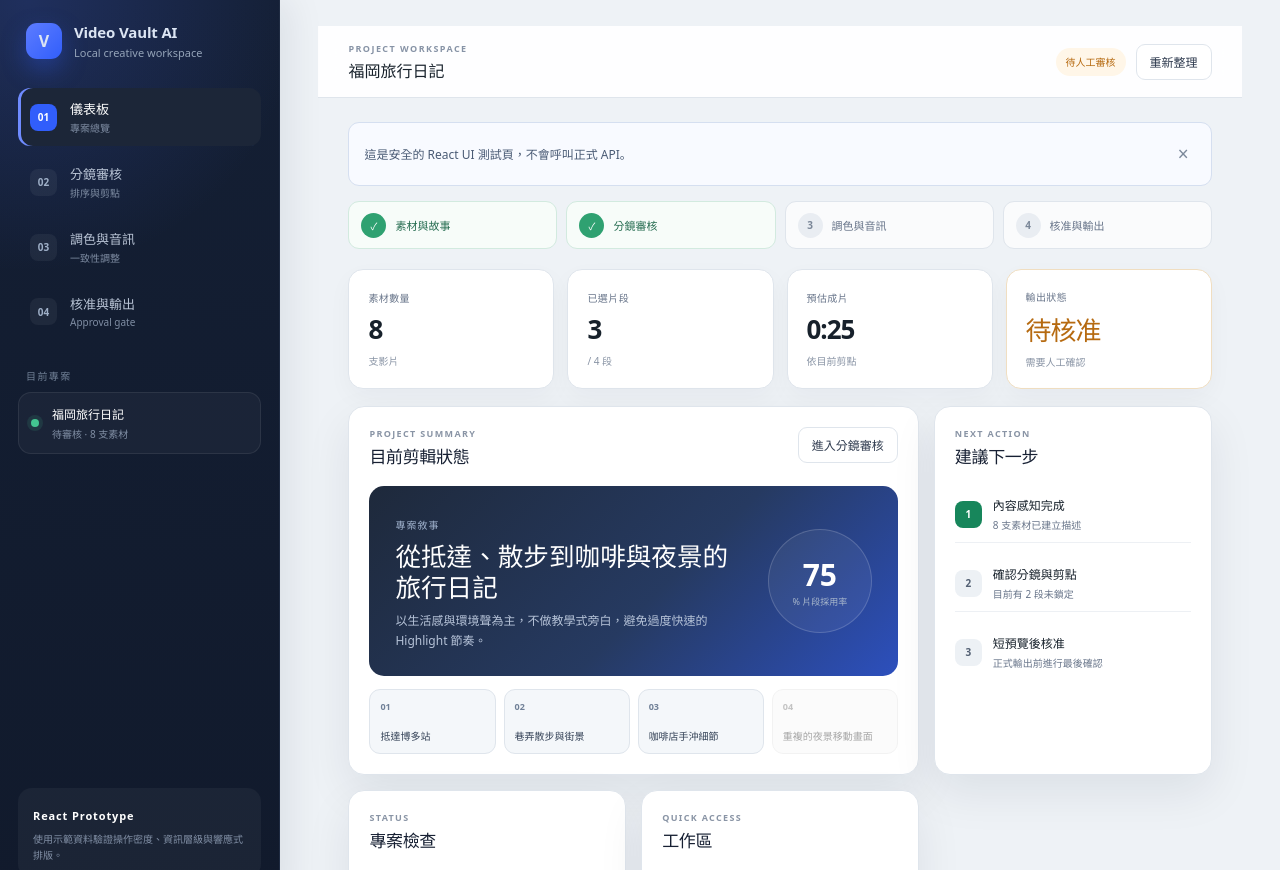
it: React UI prototype › requires human confirmations before the render gate unlocks
Click the button "04 核准與輸出 Approval gate": (140, 312) x1=18 y1=283 x2=261 y2=340
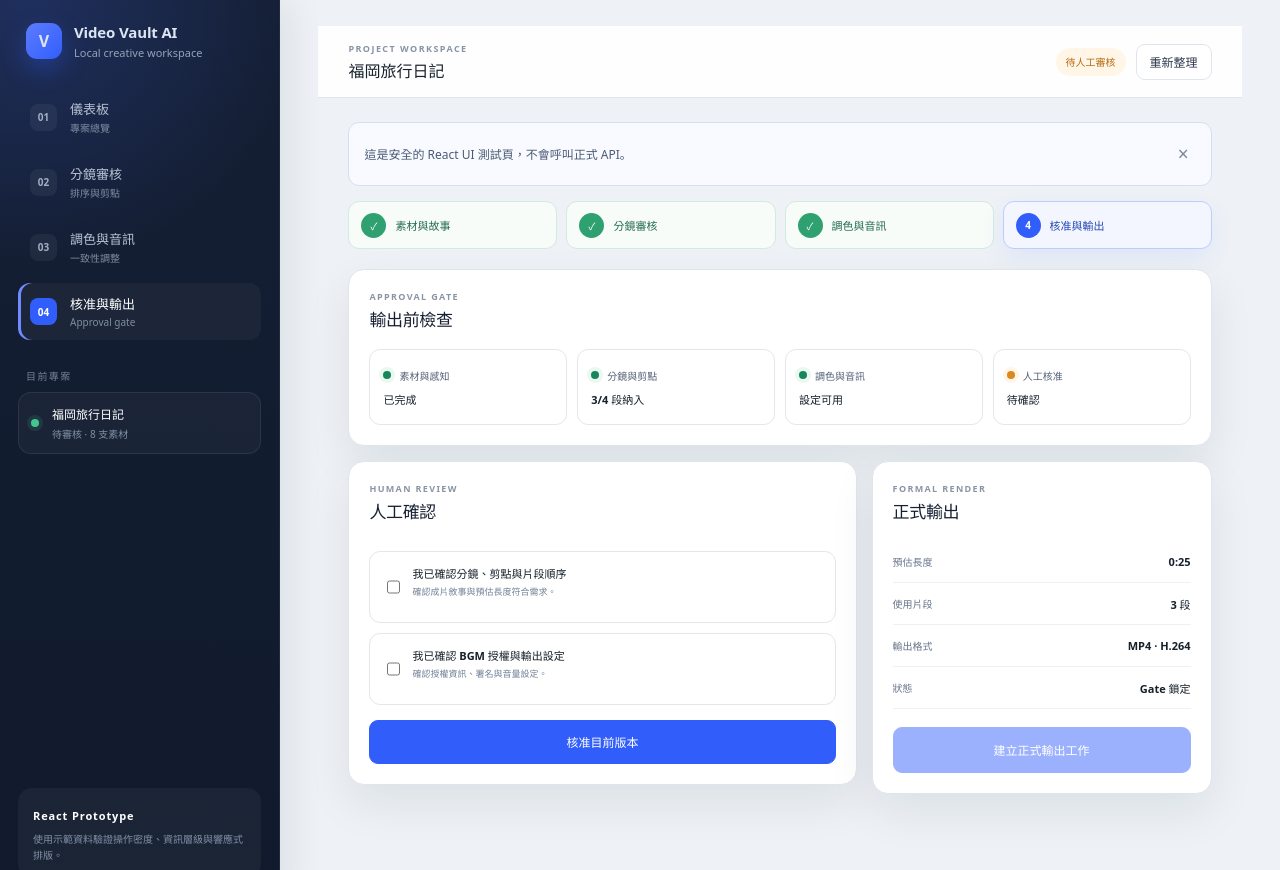
Check: the button "建立正式輸出工作" is disabled, box x1=893 y1=727 x2=1191 y2=773
Click the button "核准目前版本": (602, 742) x1=369 y1=720 x2=836 y2=764
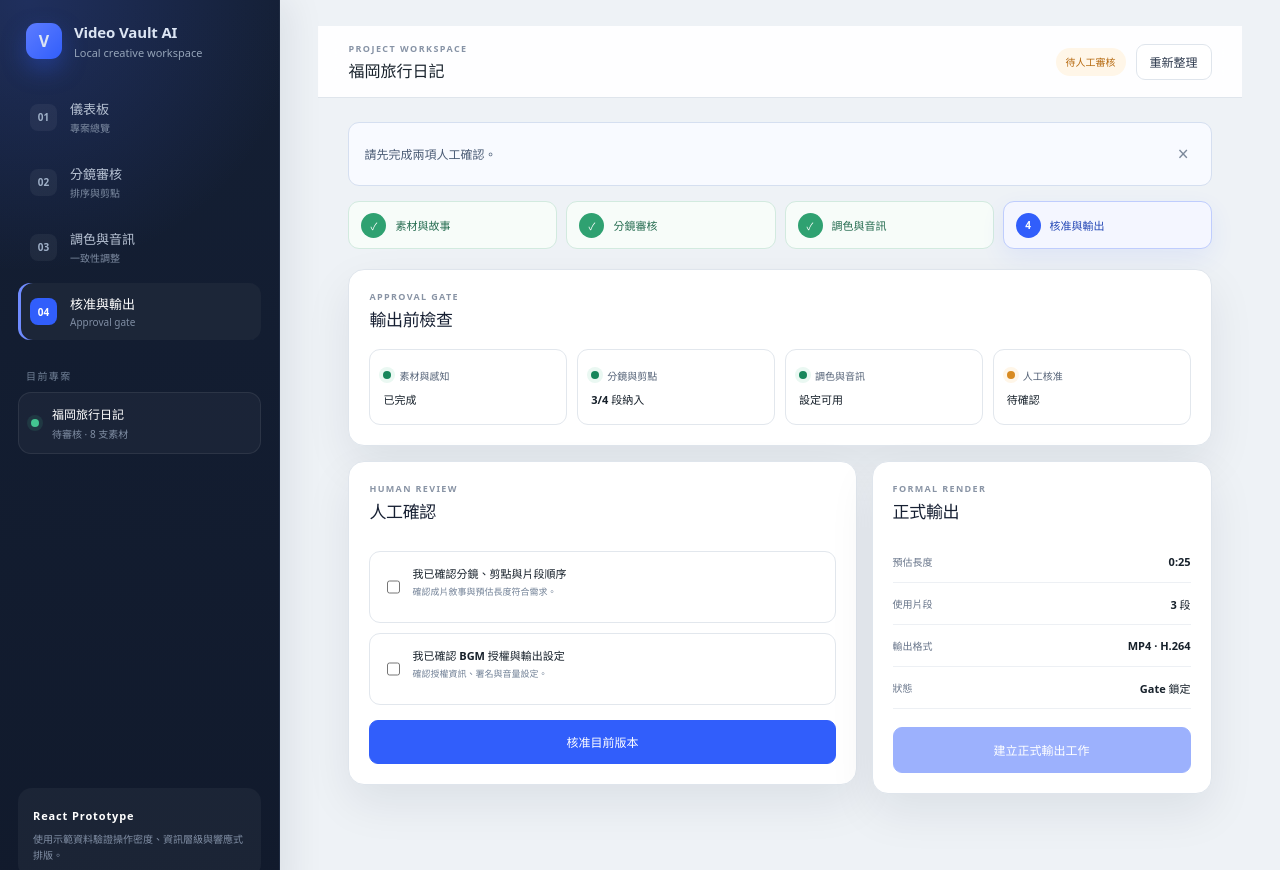
Check: the button "建立正式輸出工作" is disabled, box x1=893 y1=727 x2=1191 y2=773
Check: the text "請先完成兩項人工確認。" is shown, box x1=364 y1=145 x2=496 y2=163
Click the checkbox labelled "我已確認分鏡、剪點與片段順序 確認成片敘事與預估長度符合需求。": (394, 587) x1=387 y1=568 x2=400 y2=606
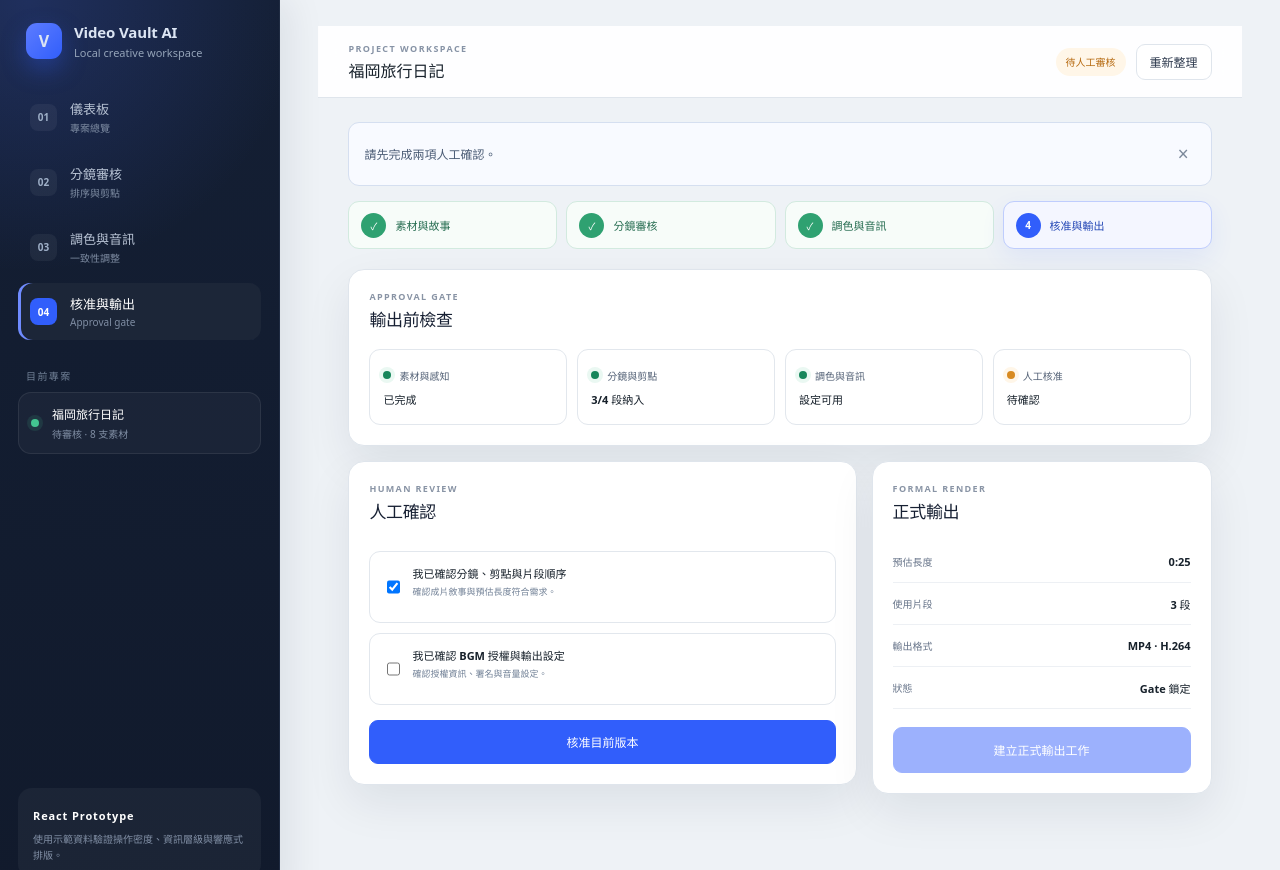
Click the checkbox labelled "我已確認 BGM 授權與輸出設定 確認授權資訊、署名與音量設定。": (394, 669) x1=387 y1=650 x2=400 y2=688
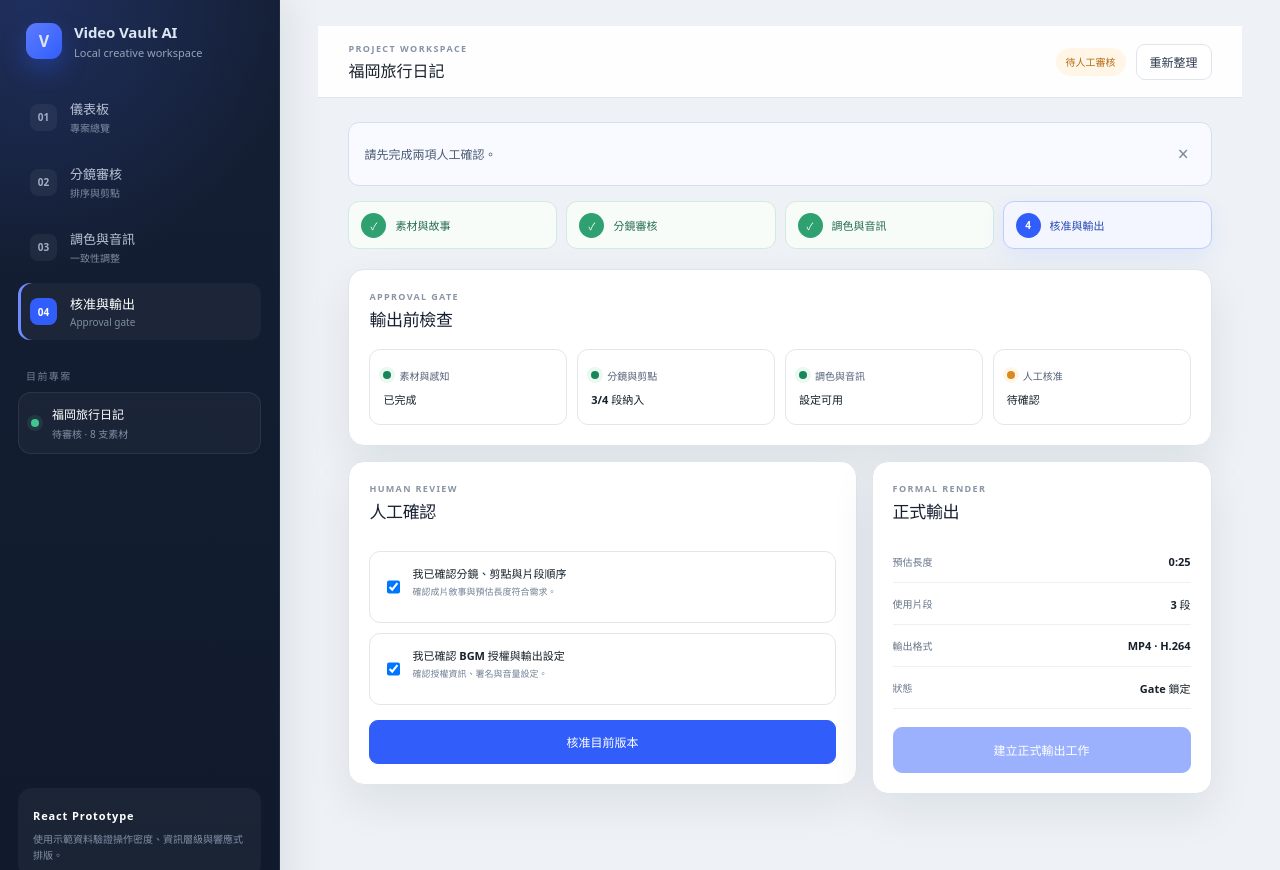
Click the button "核准目前版本": (602, 742) x1=369 y1=720 x2=836 y2=764
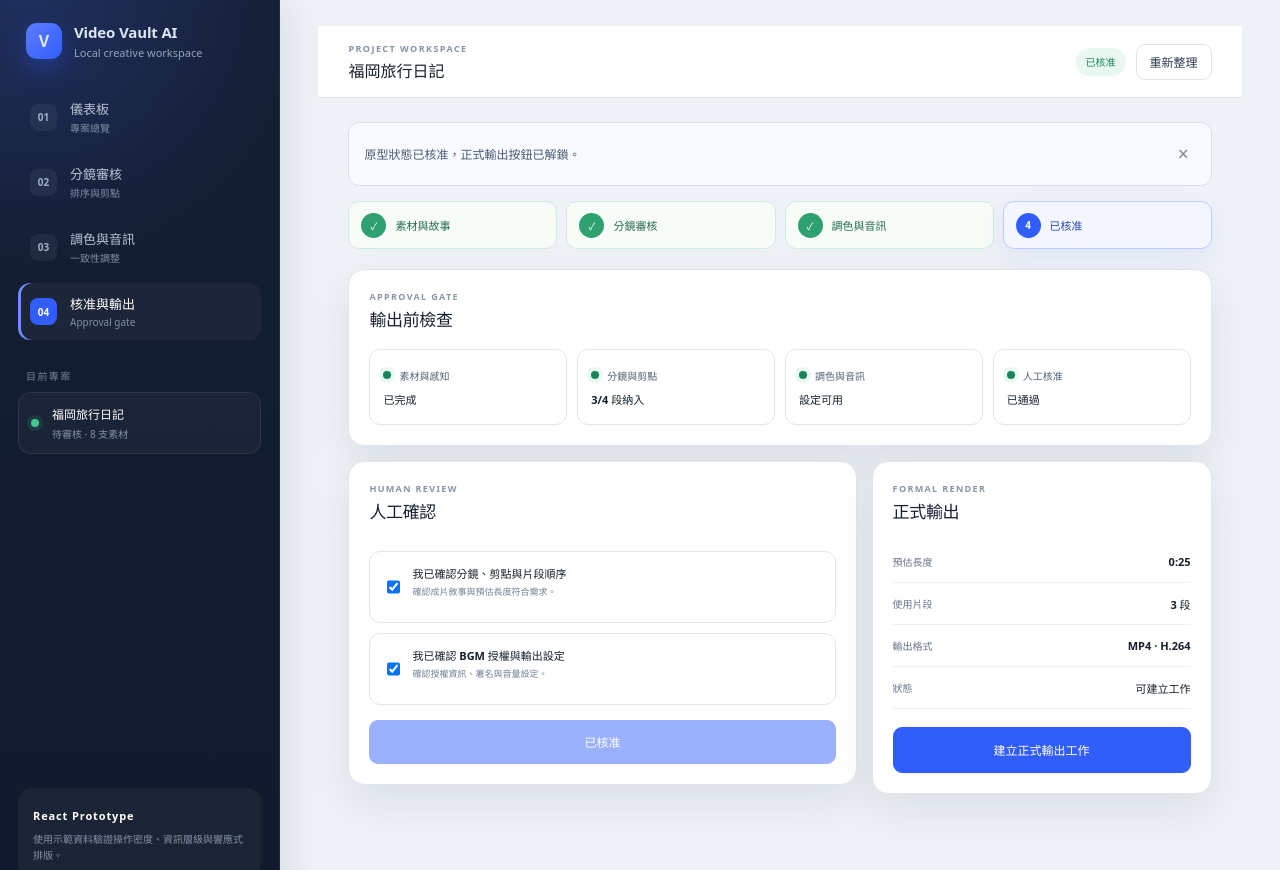
Check: the button "建立正式輸出工作" is enabled, box x1=893 y1=727 x2=1191 y2=773
Check: the text "已核准" in the row of "PROJECT WORKSPACE" is shown, box x1=1086 y1=55 x2=1116 y2=69
